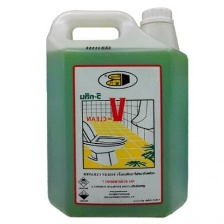cleaning_solution: (44, 5, 190, 219)
